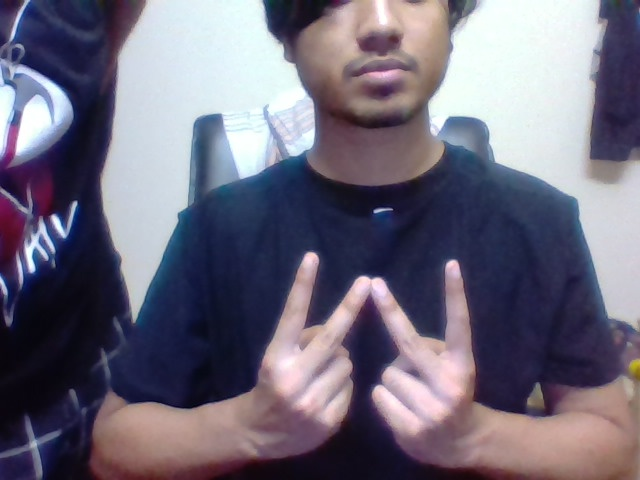W: (278, 245, 481, 359)
